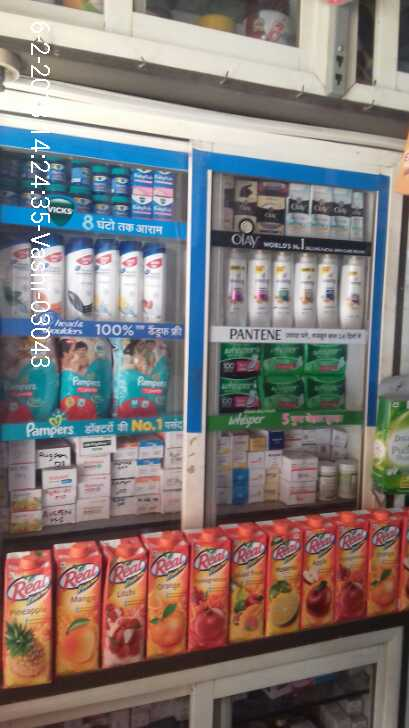beauty: (1, 236, 34, 317), (65, 241, 93, 322), (117, 242, 144, 323), (93, 240, 119, 323), (221, 246, 247, 327), (291, 248, 317, 328), (338, 254, 365, 331), (247, 247, 271, 327), (142, 244, 166, 324), (317, 252, 341, 329), (270, 249, 292, 327), (286, 181, 312, 236), (330, 186, 351, 240), (311, 184, 330, 238), (351, 190, 364, 241)
pharmacy: (113, 338, 171, 416), (58, 337, 112, 417), (257, 373, 302, 408), (302, 374, 346, 409), (262, 341, 304, 374), (217, 376, 257, 410), (303, 344, 346, 375), (220, 343, 261, 374), (89, 164, 110, 194), (110, 165, 130, 195), (111, 194, 130, 216), (93, 192, 111, 213)
